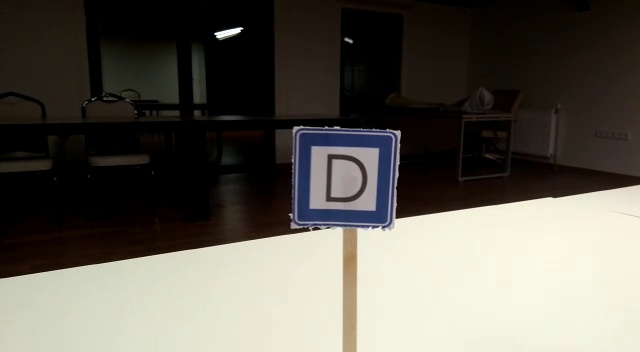durak: (295, 131, 396, 225)
